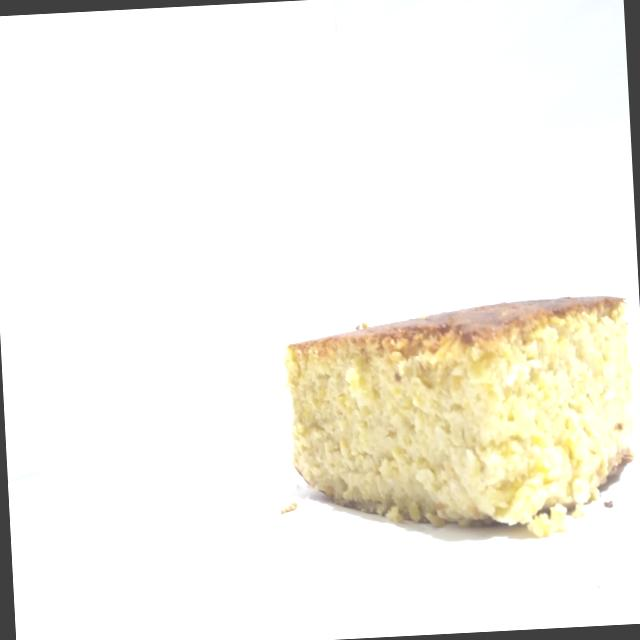Chipa_Guazu: (266, 267, 640, 557)
